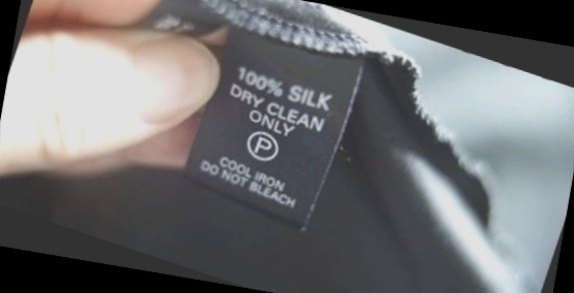dry_clean_any_solvent_except_trichloroethylene: (242, 125, 286, 166)
